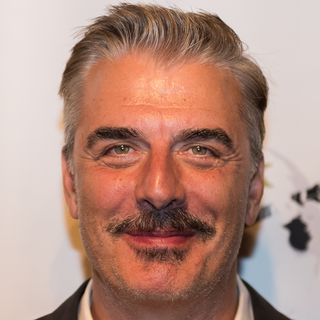eye: (174, 139, 223, 164), (94, 139, 142, 164)
